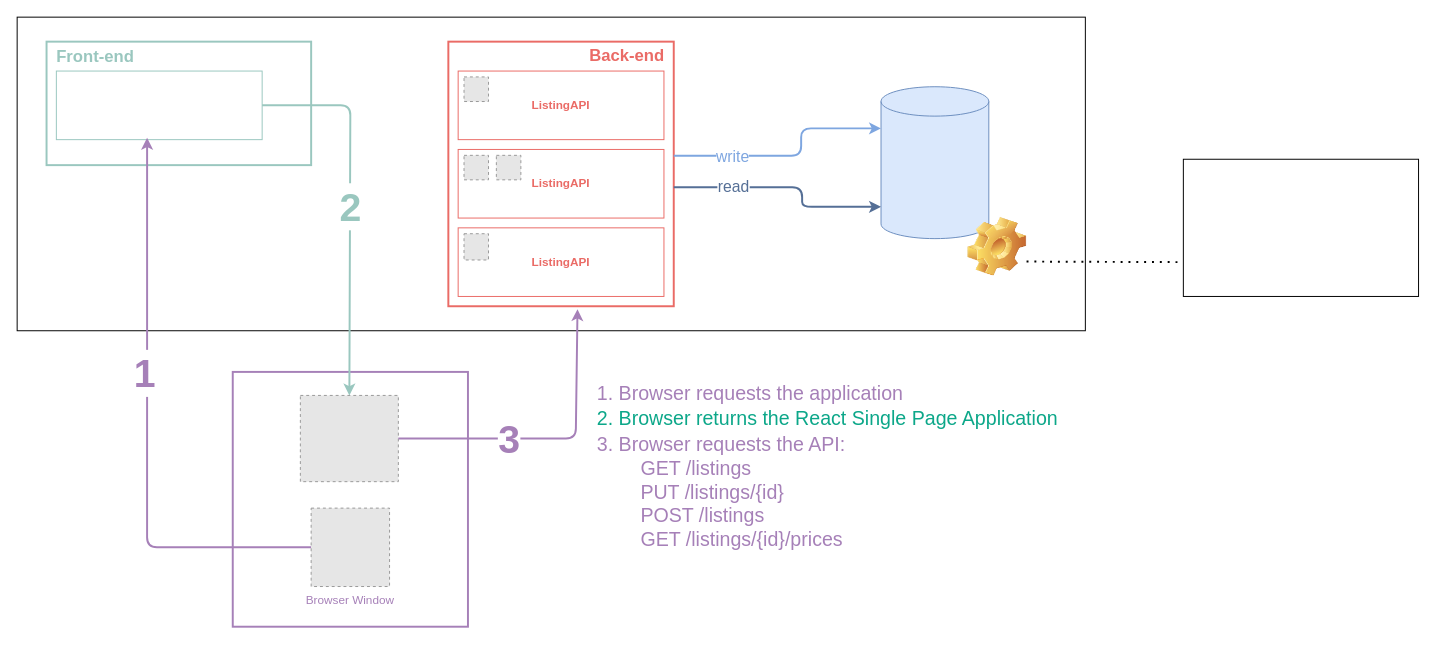
Image size: 1436x645. Some labels were removed from this diagram. Grey dashed boxes stand in for pictures. Each missing label, with the centre of its shape:
HTTP Server: pixel 158 105
listing postgres Database: pixel 934 162
Trigger on insert /update,insert into price log table: pixel 1300 227
